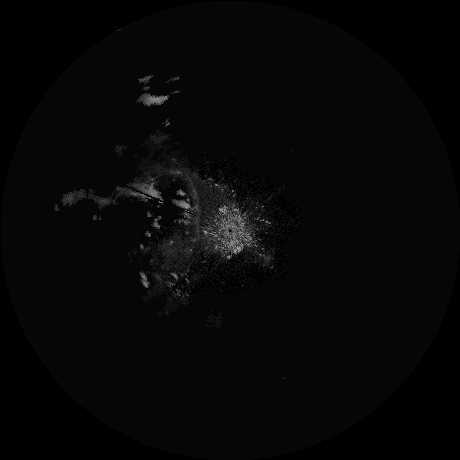frontgust: (187, 175, 203, 241)
